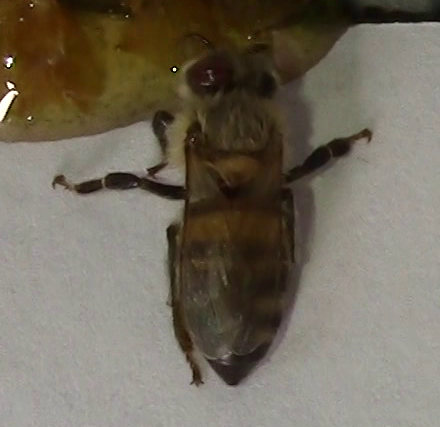Varroa destructor: (183, 53, 238, 95)
